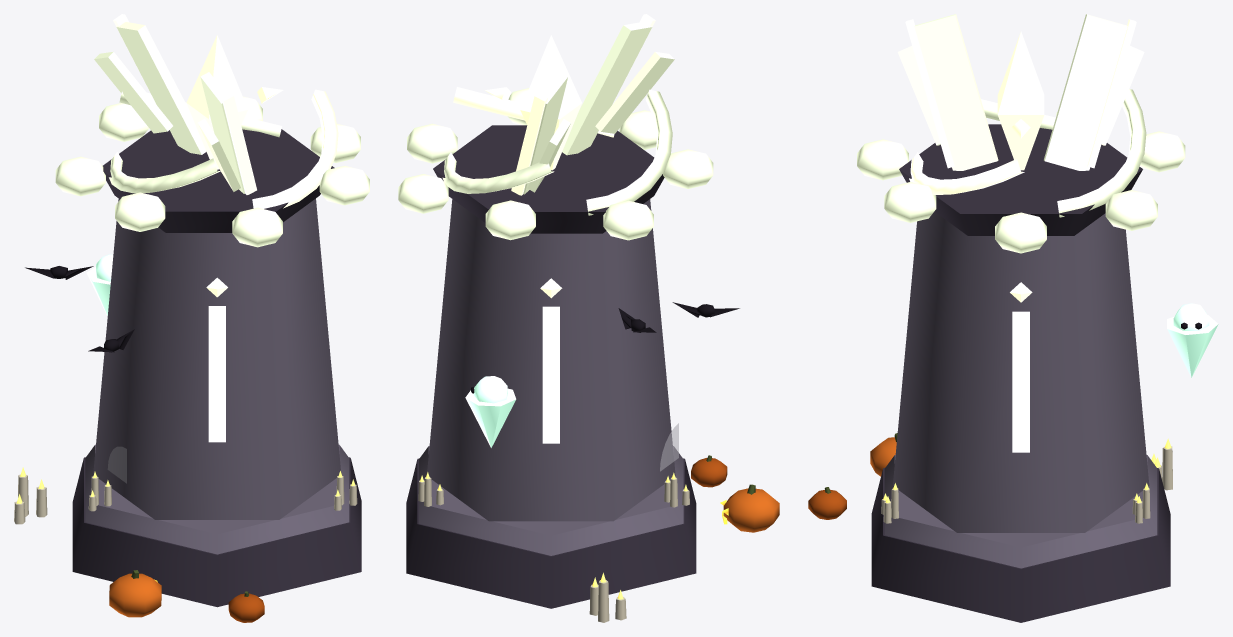
File: tower_element_elementTempest.glb
The picture shows the model from 3 angles, left to right: view 1: azimuth 30°, elevation 25°; view 2: azimuth 150°, elevation 25°; view 3: azimuth 270°, elevation 25°; orthographic projection. The views are drawn at different scales.
Parts seen in each view (by area): view 1: pillar, base, pillar_cap, base_top, wing_r_vane, rune_2, scoop_0_blade, crystal, wing_r_vane_b, deco_hw_jack_body, scoop_2_blade, cloud_puff_2 (+15 smaller); view 2: pillar, base, pillar_cap, base_top, wing_l_vane, scoop_2_blade, rune_1, crystal, wing_l_vane_b, deco_hw_jack_body, scoop_1_blade, cloud_puff_5 (+16 smaller); view 3: pillar, base, pillar_cap, base_top, wing_l_vane, wing_r_vane, crystal, scoop_1_blade, rune_0, scoop_0_blade, cloud_puff_6, cloud_puff_1 (+12 smaller).
Part boxes in pixels (<box>): pillar: <box>93,198,340,519</box>; base: <box>72,457,361,607</box>; pillar_cap: <box>103,129,334,232</box>; base_top: <box>85,444,349,554</box>; wing_r_vane: <box>116,22,206,154</box>; rune_2: <box>208,306,225,442</box>; scoop_0_blade: <box>252,89,338,208</box>; crystal: <box>186,35,247,169</box>; wing_r_vane_b: <box>94,51,172,133</box>; deco_hw_jack_body: <box>109,573,161,617</box>; scoop_2_blade: <box>109,152,220,193</box>; cloud_puff_2: <box>232,207,282,247</box>; pillar: <box>427,199,675,521</box>; base: <box>406,458,696,608</box>; pillar_cap: <box>433,125,664,233</box>; base_top: <box>419,446,683,555</box>; wing_l_vane: <box>562,22,652,155</box>; scoop_2_blade: <box>586,89,672,215</box>; rune_1: <box>542,306,559,443</box>; crystal: <box>520,35,581,170</box>; wing_l_vane_b: <box>595,52,674,133</box>; deco_hw_jack_body: <box>723,488,779,532</box>; scoop_1_blade: <box>442,152,554,193</box>; cloud_puff_5: <box>485,200,535,240</box>; pillar: <box>893,211,1149,532</box>; base: <box>871,468,1170,622</box>; pillar_cap: <box>899,124,1142,235</box>; base_top: <box>884,455,1157,568</box>; wing_l_vane: <box>914,14,998,170</box>; wing_r_vane: <box>1044,14,1127,170</box>; crystal: <box>997,31,1044,170</box>; scoop_1_blade: <box>1057,89,1146,217</box>; rune_0: <box>1012,311,1029,452</box>; scoop_0_blade: <box>909,152,1024,194</box>; cloud_puff_6: <box>1105,190,1157,230</box>; cloud_puff_1: <box>884,182,936,222</box>.
Size of the model in its own units: 0.4175 by 0.6474 by 0.4636.
